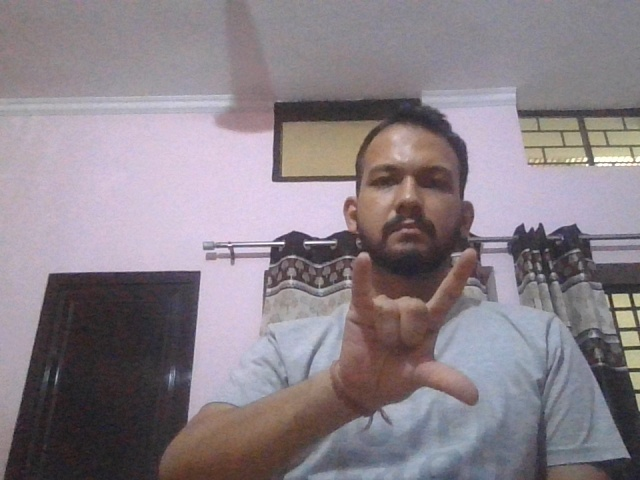iloveyou: (341, 246, 479, 410)
